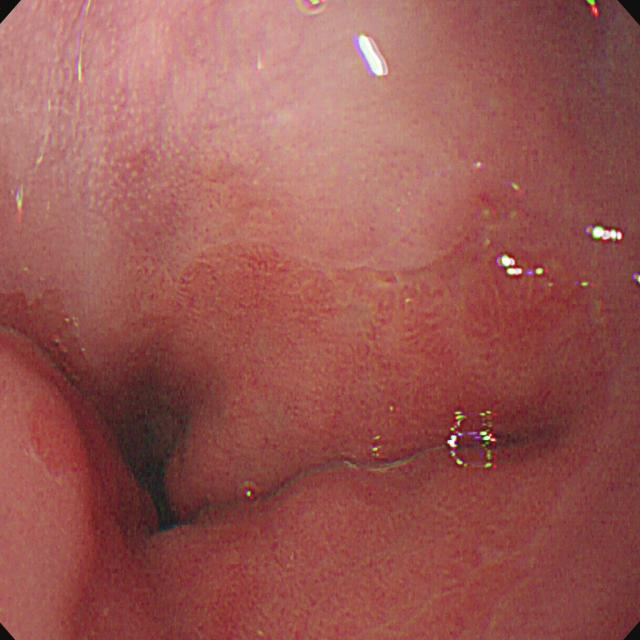I: (8, 250, 313, 602)
T: (235, 479, 265, 509), (294, 2, 333, 20)
U: (448, 409, 500, 471), (359, 34, 389, 80), (589, 223, 624, 245), (496, 252, 526, 277)
